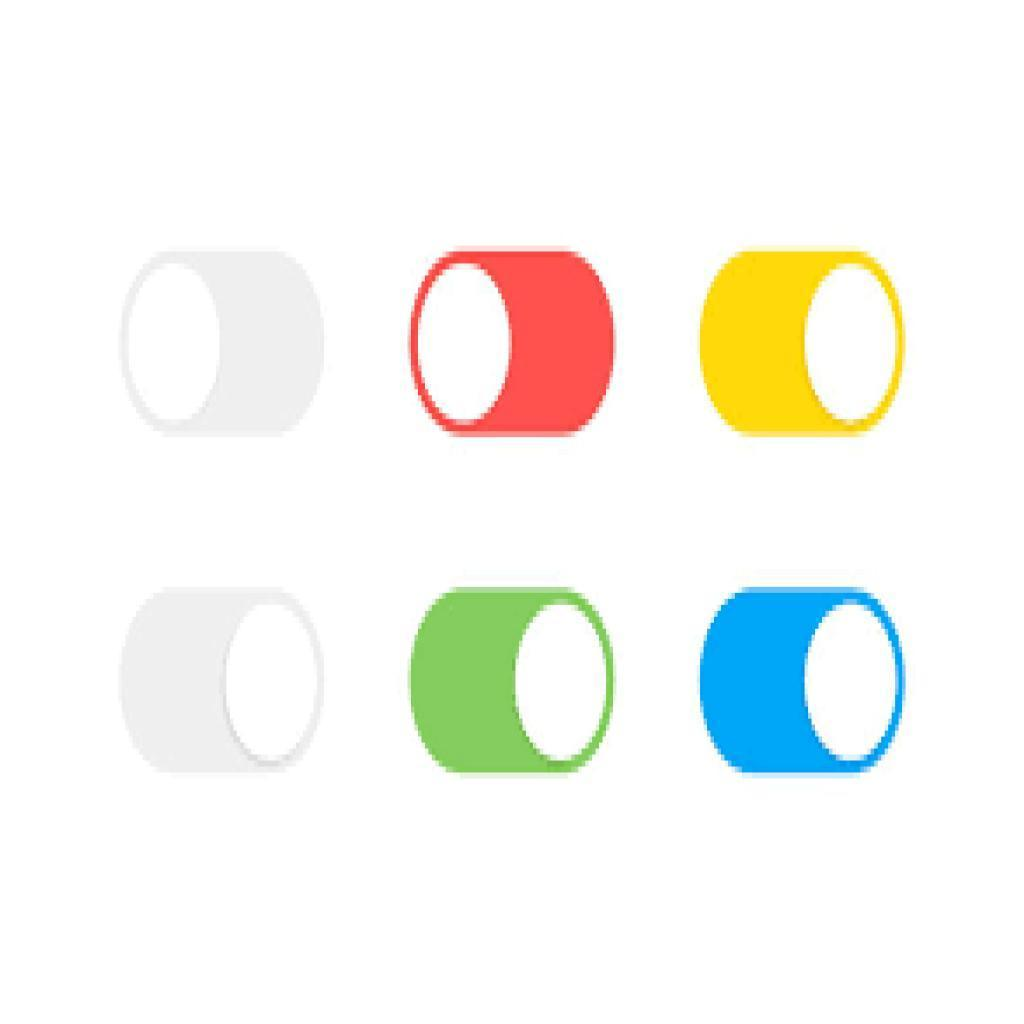switch: (117, 250, 329, 441), (117, 585, 329, 776), (698, 251, 911, 438), (410, 252, 619, 440), (407, 589, 616, 775), (701, 590, 906, 779)
